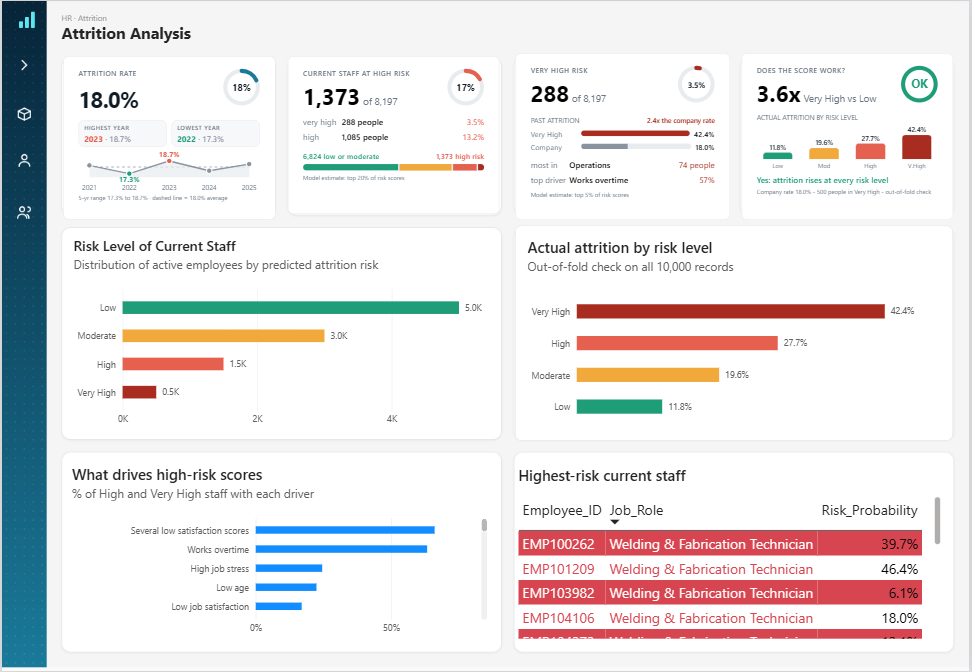

What the dashboard file says about the page in this screenshot:
{"tool":"powerbi","page":{"name":"Analysis ","canvas":[1300,900],"ordinal":1},"visuals":[{"type":"textbox","box":[80.7,27.5,194.8,31.5],"z":0},{"type":"textbox","box":[80,12,220,22],"z":2000},{"type":"image","box":[17.7,271.5,24,24],"z":3000},{"type":"image","box":[17.7,202.7,24,24],"z":4000},{"type":"image","box":[17.7,139.7,24,24],"z":5000},{"type":"image","box":[18,74,24,24],"z":6000},{"type":"actionButton","box":[10,70,40,32],"z":7000},{"type":"clusteredBarChart","title":"Risk Level of Current Staff","fields":{"Category":["Employee_Scores.Risk_Level"],"Y":["All Measures.Total Employee"]},"box":[80.7,301.1,588.3,289.2],"z":9000},{"type":"clusteredBarChart","title":"What drives high-risk scores","fields":{"Category":["Drivers.Value"],"Y":["All Measures.Driver % of High Risk"]},"box":[78.7,608,590.3,263.7],"z":10000},{"type":"tableEx","title":"Highest-risk current staff","fields":{"Values":["Employee_Scores.Employee_ID","Employee Data.Job_Role","Employee_Scores.Risk_Probability"]},"box":[678.9,610,600.1,263.7],"z":12000},{"type":"htmlContent443BE3AD55E043BF878BED274D3A6865","fields":{"content":["All Measures.KPI Attrition HTML"]},"box":[82,74,286,220],"z":13000},{"type":"htmlContent443BE3AD55E043BF878BED274D3A6865","fields":{"content":["All Measures.KPI Very High HTML"]},"box":[690.7,70.8,289.2,224.3],"z":14000},{"type":"htmlContent443BE3AD55E043BF878BED274D3A6865","fields":{"content":["All Measures.KPI High Risk HTML"]},"box":[383.7,74.8,285.3,212.5],"z":15000},{"type":"htmlContent443BE3AD55E043BF878BED274D3A6865","fields":{"content":["All Measures.KPI Score Check HTML"]},"box":[993.7,70.8,285.3,224.3],"z":16000},{"type":"clusteredBarChart","title":"Actual attrition by risk level","fields":{"Category":["Employee_Scores.Risk_Level"],"Y":["All Measures.Attrition Rate"]},"box":[690.7,301.1,588.3,289.2],"z":17000}]}

Visuals, with their boxes on the page's 1300x900 design canvas (x1, y1, x2, y2). These are canvas units, not pixel positions in the 972x672 screenshot, which may show the page scaled, cropped or inside an application window:
textbox: bbox=[81, 28, 276, 59]
textbox: bbox=[80, 12, 300, 34]
image: bbox=[18, 272, 42, 296]
image: bbox=[18, 203, 42, 227]
image: bbox=[18, 140, 42, 164]
image: bbox=[18, 74, 42, 98]
actionButton: bbox=[10, 70, 50, 102]
"Risk Level of Current Staff" clusteredBarChart: bbox=[81, 301, 669, 590]
"What drives high-risk scores" clusteredBarChart: bbox=[79, 608, 669, 872]
"Highest-risk current staff" tableEx: bbox=[679, 610, 1279, 874]
htmlContent443BE3AD55E043BF878BED274D3A6865 - All Measures.KPI Attrition HTML: bbox=[82, 74, 368, 294]
htmlContent443BE3AD55E043BF878BED274D3A6865 - All Measures.KPI Very High HTML: bbox=[691, 71, 980, 295]
htmlContent443BE3AD55E043BF878BED274D3A6865 - All Measures.KPI High Risk HTML: bbox=[384, 75, 669, 287]
htmlContent443BE3AD55E043BF878BED274D3A6865 - All Measures.KPI Score Check HTML: bbox=[994, 71, 1279, 295]
"Actual attrition by risk level" clusteredBarChart: bbox=[691, 301, 1279, 590]
